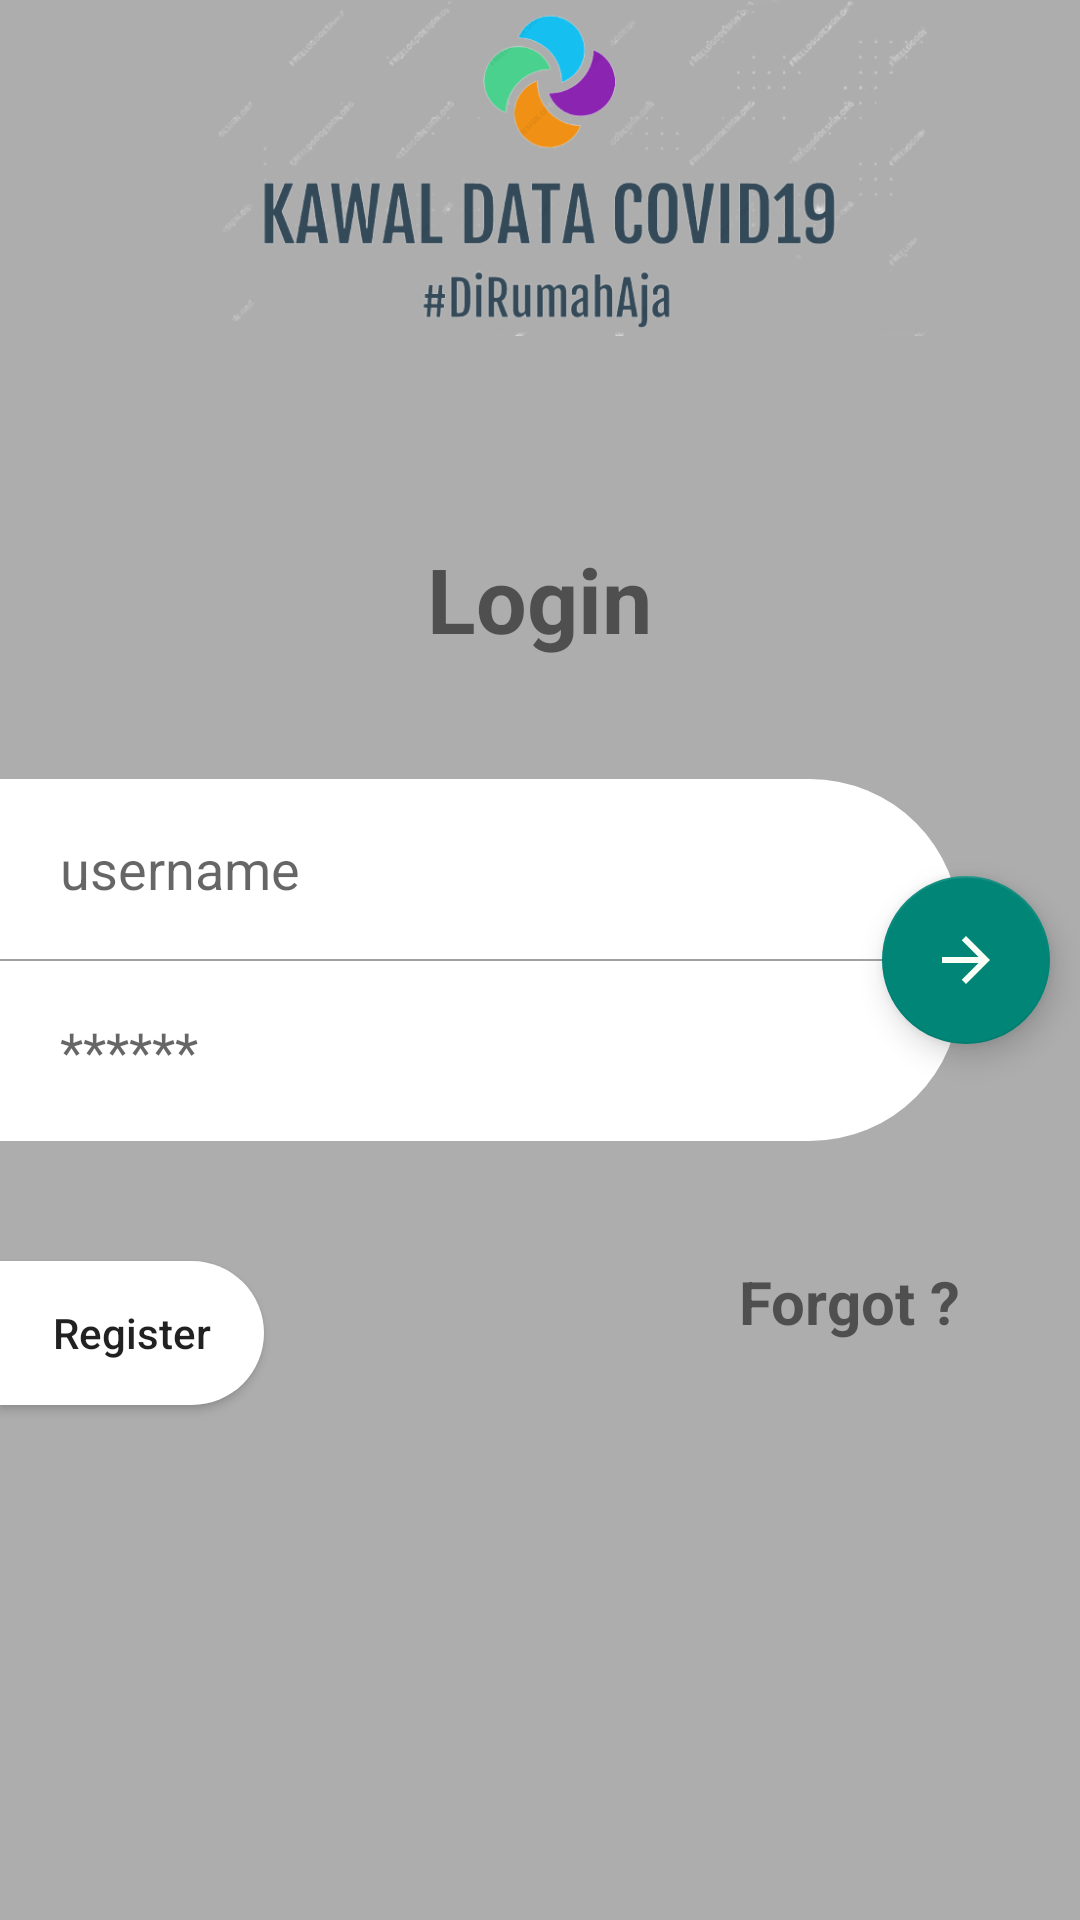

Screen size 1080x1920. Icon name, then its center in pixels as [x,y]:
arrow forward: [966,960]
